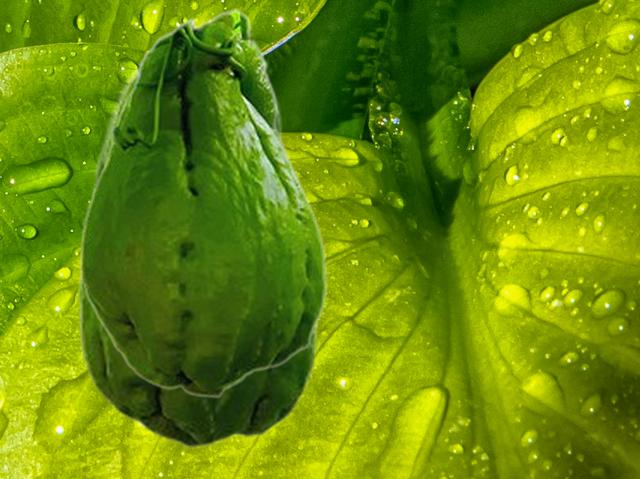sayote: (79, 8, 327, 398), (78, 61, 317, 448)
